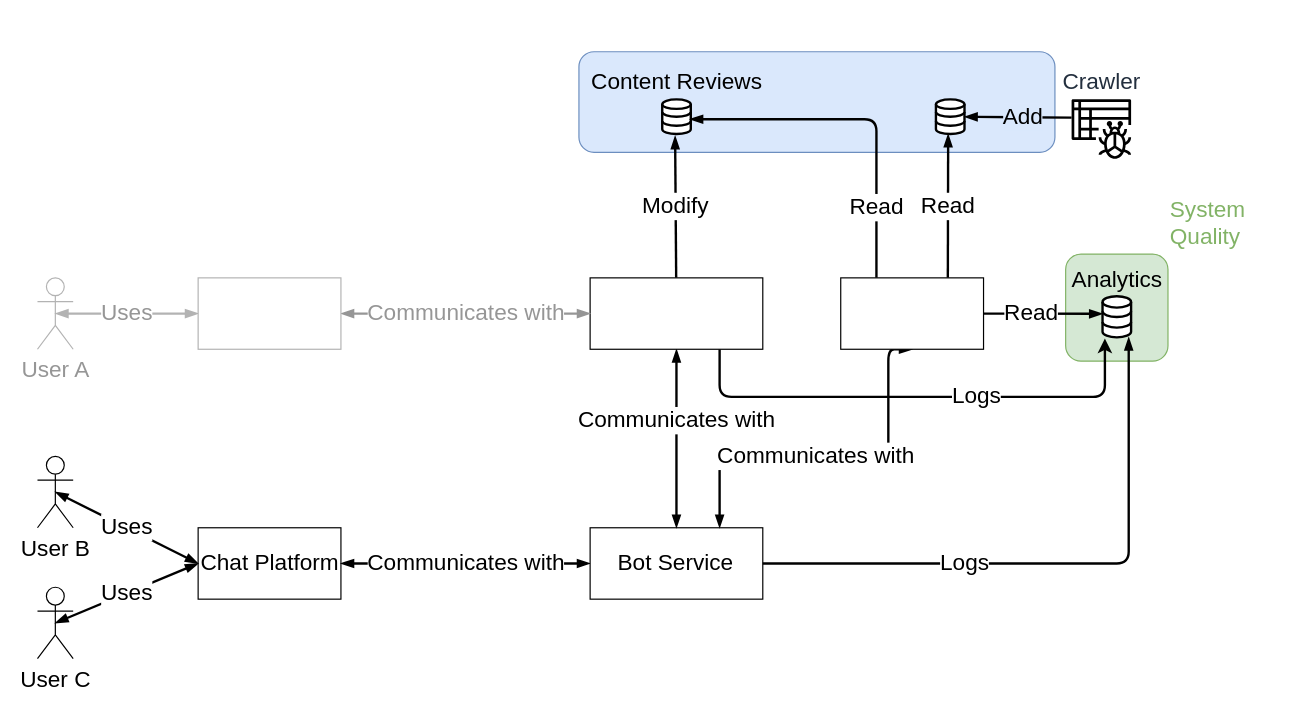
Some shapes in this 1296 by 715 pixel diagram are drawn without their labels. Here are the shapes that lost their labels. From the top down, the box of each, then its label:
(578, 51, 1055, 152): Information Quality
(934, 98, 965, 135): Content Mediabase
(197, 277, 341, 349): Community Application
(589, 277, 763, 349): Community Service
(840, 277, 984, 349): MobSOS CCA
